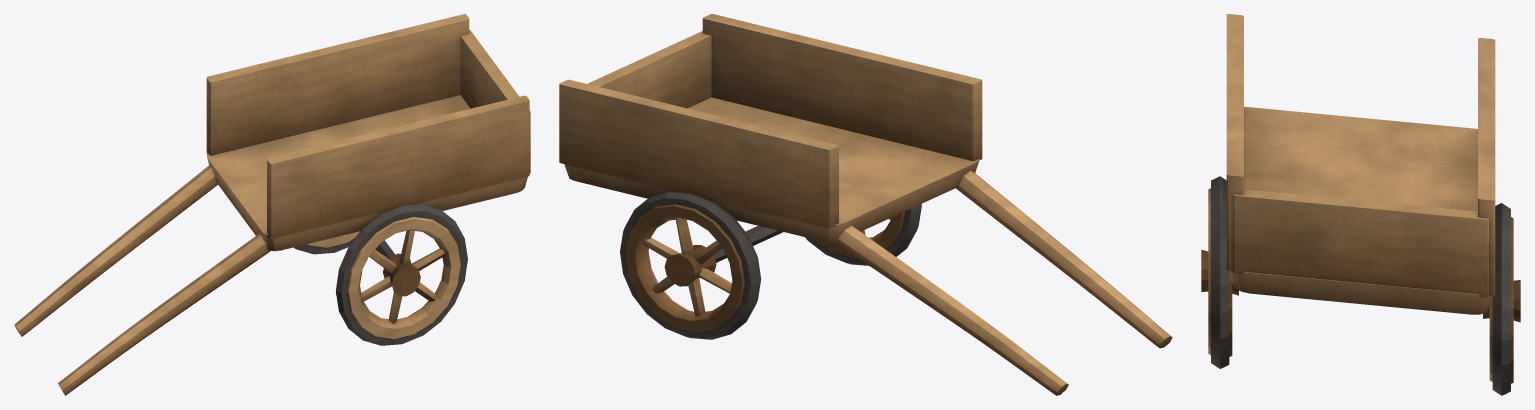
The model's file is handcart.glb.
The picture shows the model from 3 angles, left to right: view 1: azimuth 30°, elevation 25°; view 2: azimuth 150°, elevation 25°; view 3: azimuth 270°, elevation 25°; orthographic projection. The views are drawn at different scales.
Parts seen in each view (by area): view 1: Handcart; view 2: Handcart; view 3: Handcart.
Boxes of the visible parts, <box> form: Handcart: <box>14,14,530,395</box>; Handcart: <box>559,14,1172,395</box>; Handcart: <box>1201,14,1520,395</box>.
Bounding box in the file's own units: 2.91 × 1.17 × 1.27.
Materials: 1 (1 with a texture image).
